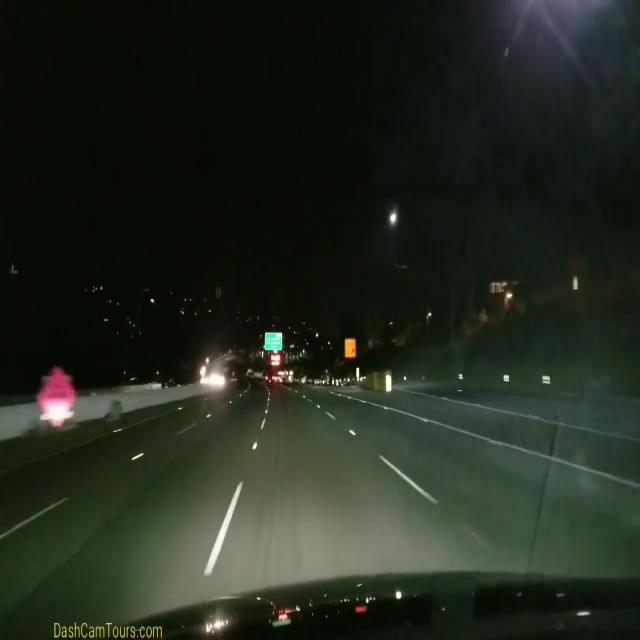street-signs: (264, 332, 282, 347)
